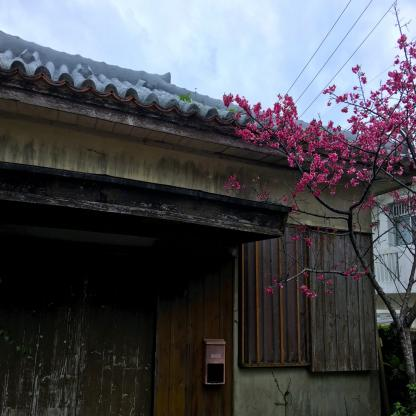KanhiSakura: (223, 0, 416, 301)
